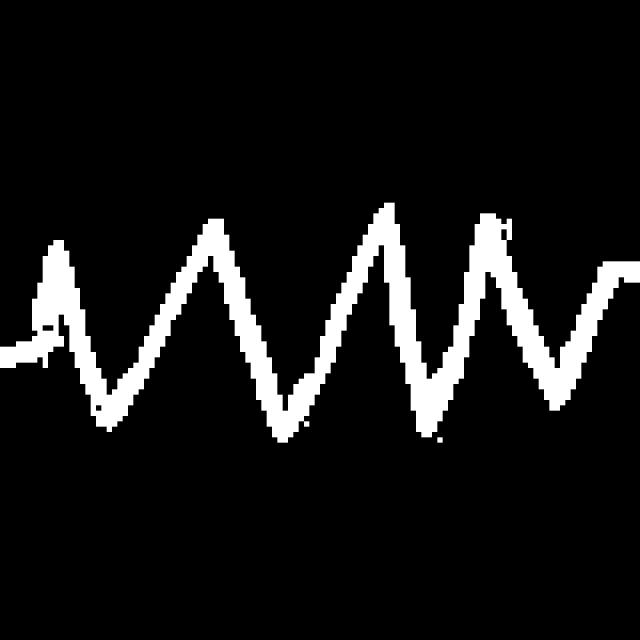resistor: (26, 192, 619, 460)
